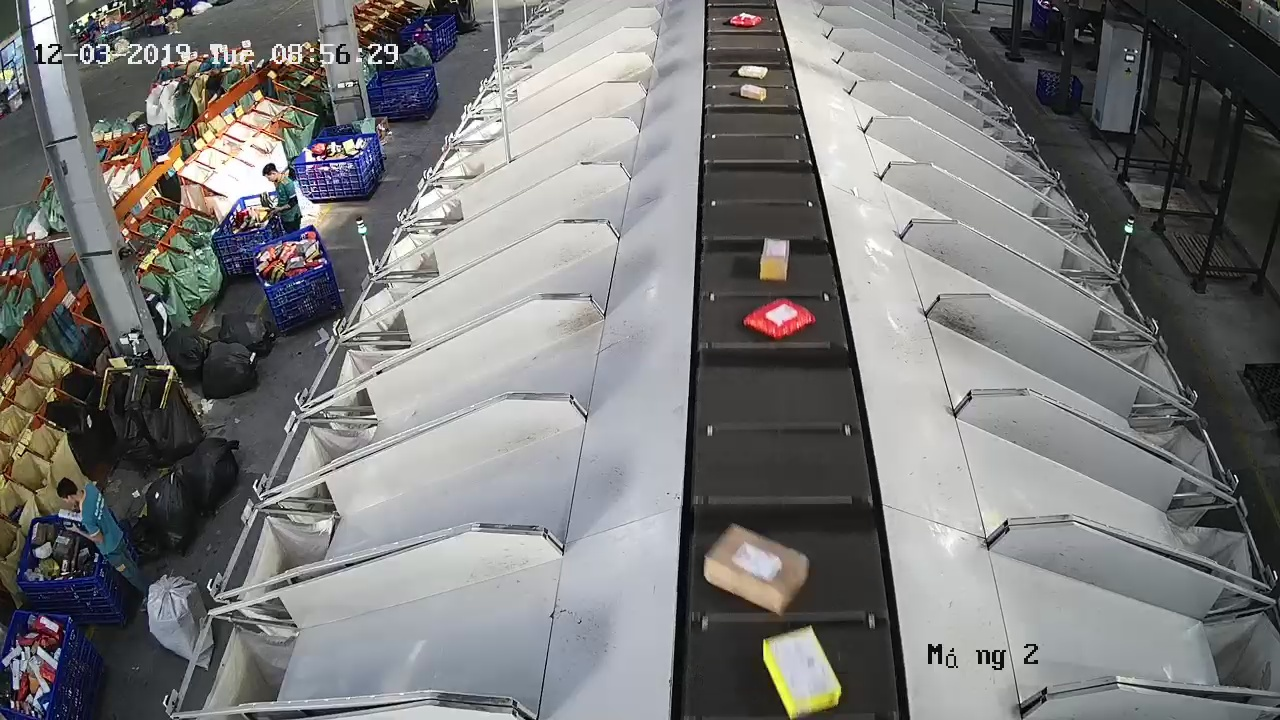parcel: (702, 523, 811, 618), (760, 623, 843, 720), (741, 295, 817, 340), (757, 236, 791, 283)
